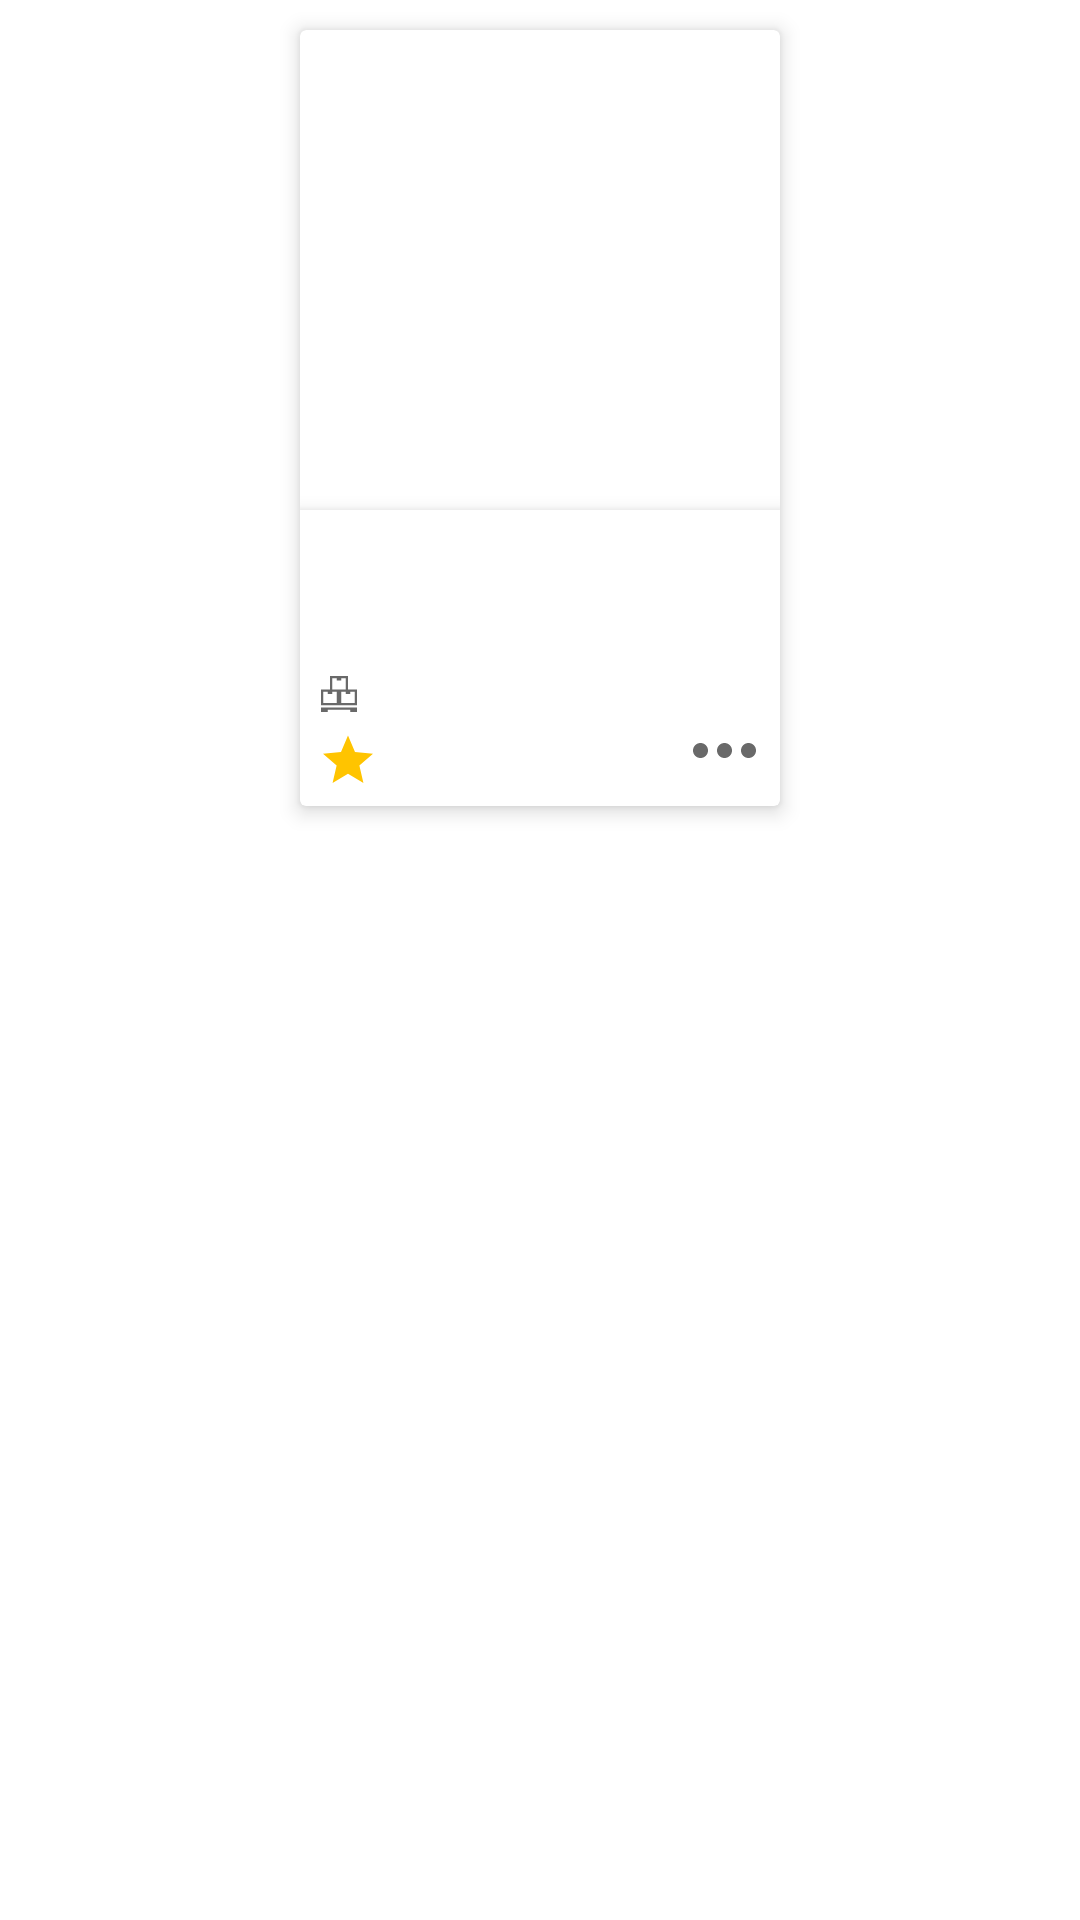

Icons on this 1080 x 1920 Android screen, each with its box as (x1, y1, x2, y2):
three dots: (693, 743, 756, 758)
